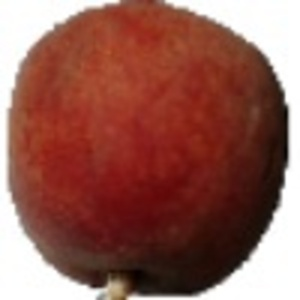pêssego: (5, 1, 289, 300)
